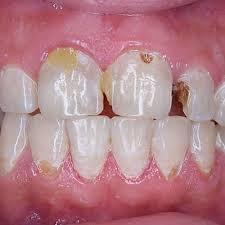cavity: (99, 41, 180, 122), (34, 40, 108, 122), (107, 106, 158, 186), (65, 112, 119, 184), (24, 113, 73, 182), (152, 113, 197, 187), (173, 61, 219, 125), (0, 61, 44, 123), (0, 108, 36, 183), (189, 113, 219, 185), (210, 73, 225, 130), (213, 119, 225, 161)
